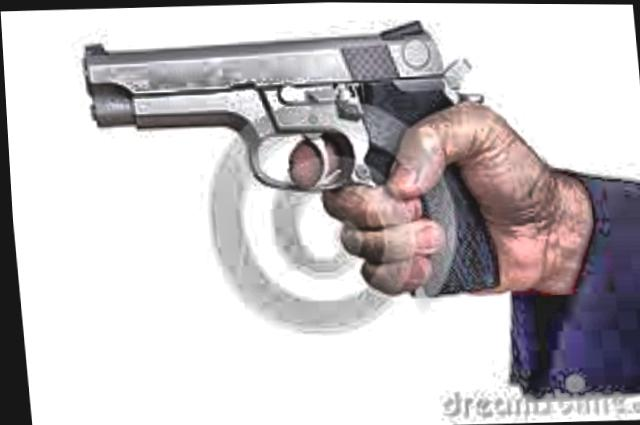pistol: (76, 11, 503, 307)
